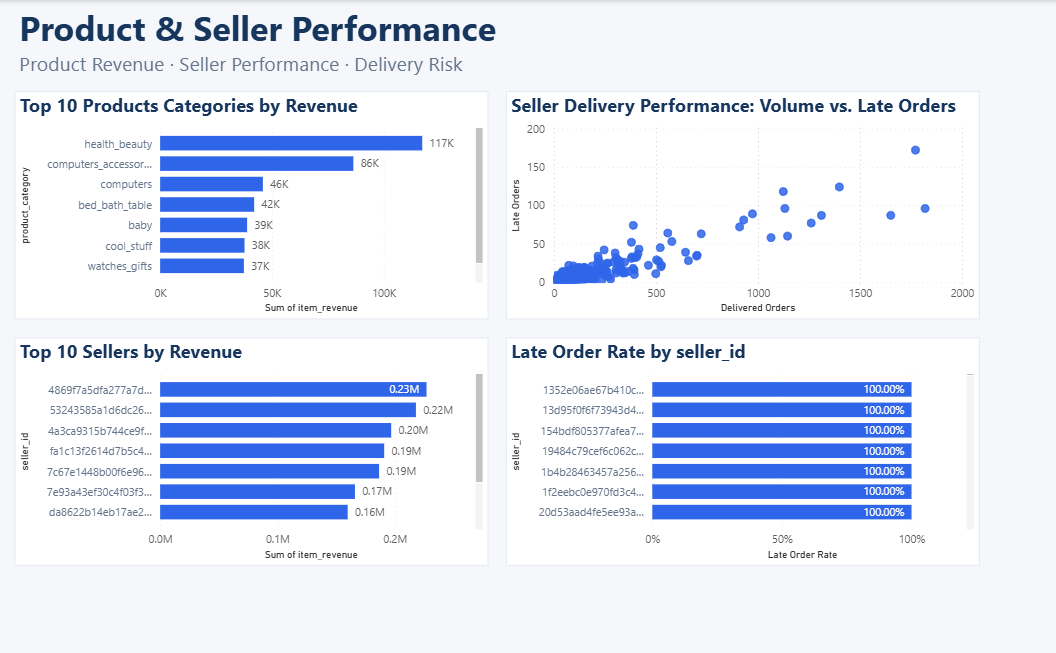

Layout of this report page (visuals, bound fields, positions):
{"tool":"powerbi","page":{"name":"Product & Seller Performance","canvas":[1280,720],"ordinal":3},"visuals":[{"type":"clusteredBarChart","title":"Top 10 Products Categories by Revenue","fields":{"Category":["gold vw_product_performance.product_category_name_english"],"Y":["Sum(gold vw_product_performance.item_revenue)"]},"box":[20,100,520,250],"z":0},{"type":"clusteredBarChart","title":"Top 10 Sellers by Revenue","fields":{"Category":["gold vw_seller_performance.seller_id"],"Y":["Sum(gold vw_seller_performance.item_revenue)"]},"box":[20,370,520,250],"z":1000},{"type":"scatterChart","title":"Seller Delivery Performance: Volume vs. Late Orders","fields":{"X":["gold vw_seller_performance.delivered_order_count"],"Y":["gold vw_seller_performance.late_order_count"],"Category":["gold vw_seller_performance.seller_id"]},"box":[560,100,520,250],"z":2000},{"type":"clusteredBarChart","fields":{"Category":["gold vw_seller_performance.seller_id"],"Y":["gold vw_seller_performance.Late Order Rate"]},"box":[560,370,520.1,250],"z":3000},{"type":"textbox","box":[20.6,0,760.2,100.2],"z":4000}]}

Visuals, with their boxes on the page's 1280x720 design canvas (x1, y1, x2, y2). These are canvas units, not pixel positions in the 1056x653 screenshot, which may show the page scaled, cropped or inside an application window:
"Top 10 Products Categories by Revenue" clusteredBarChart: select_region(20, 100, 540, 350)
"Top 10 Sellers by Revenue" clusteredBarChart: select_region(20, 370, 540, 620)
"Seller Delivery Performance: Volume vs. Late Orders" scatterChart: select_region(560, 100, 1080, 350)
clusteredBarChart - gold vw_seller_performance.seller_id x gold vw_seller_performance.Late Order Rate: select_region(560, 370, 1080, 620)
textbox: select_region(21, 0, 781, 100)
